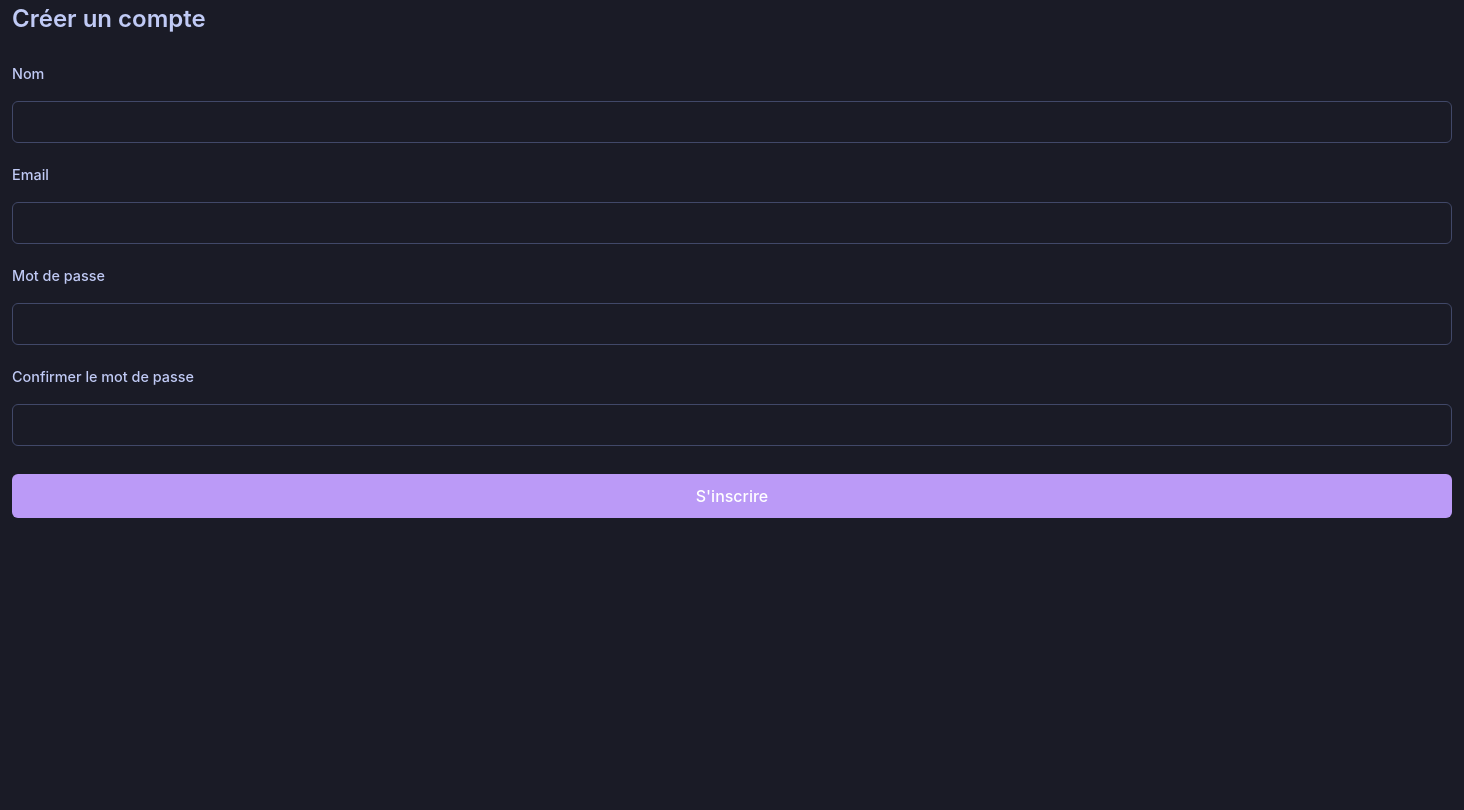
RegisterForm › devrait valider que l'email est requis
Type "John Doe" into the field named "nom" at [732, 122], box top-left (12, 101), bottom-right (1452, 143)
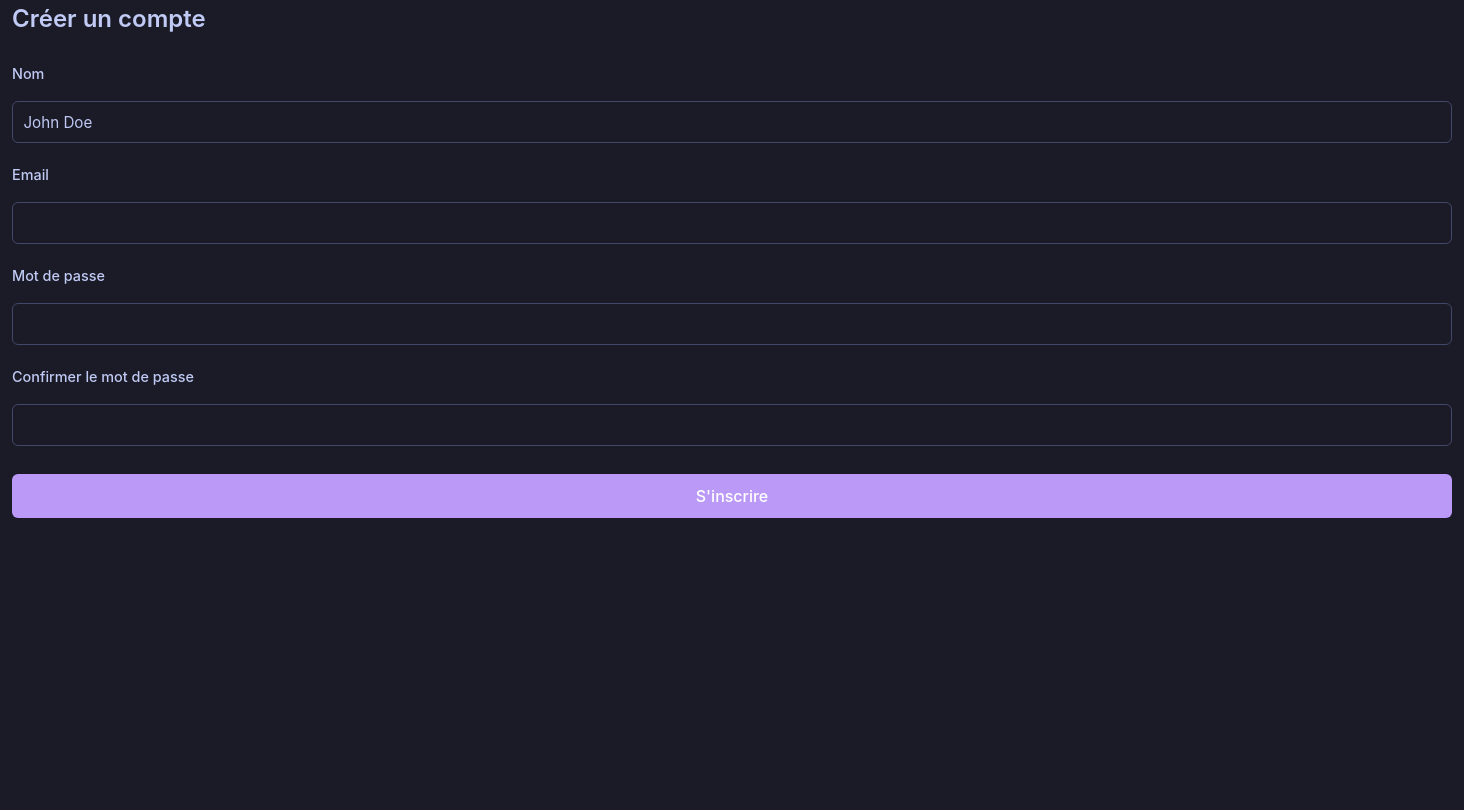
Submit the form
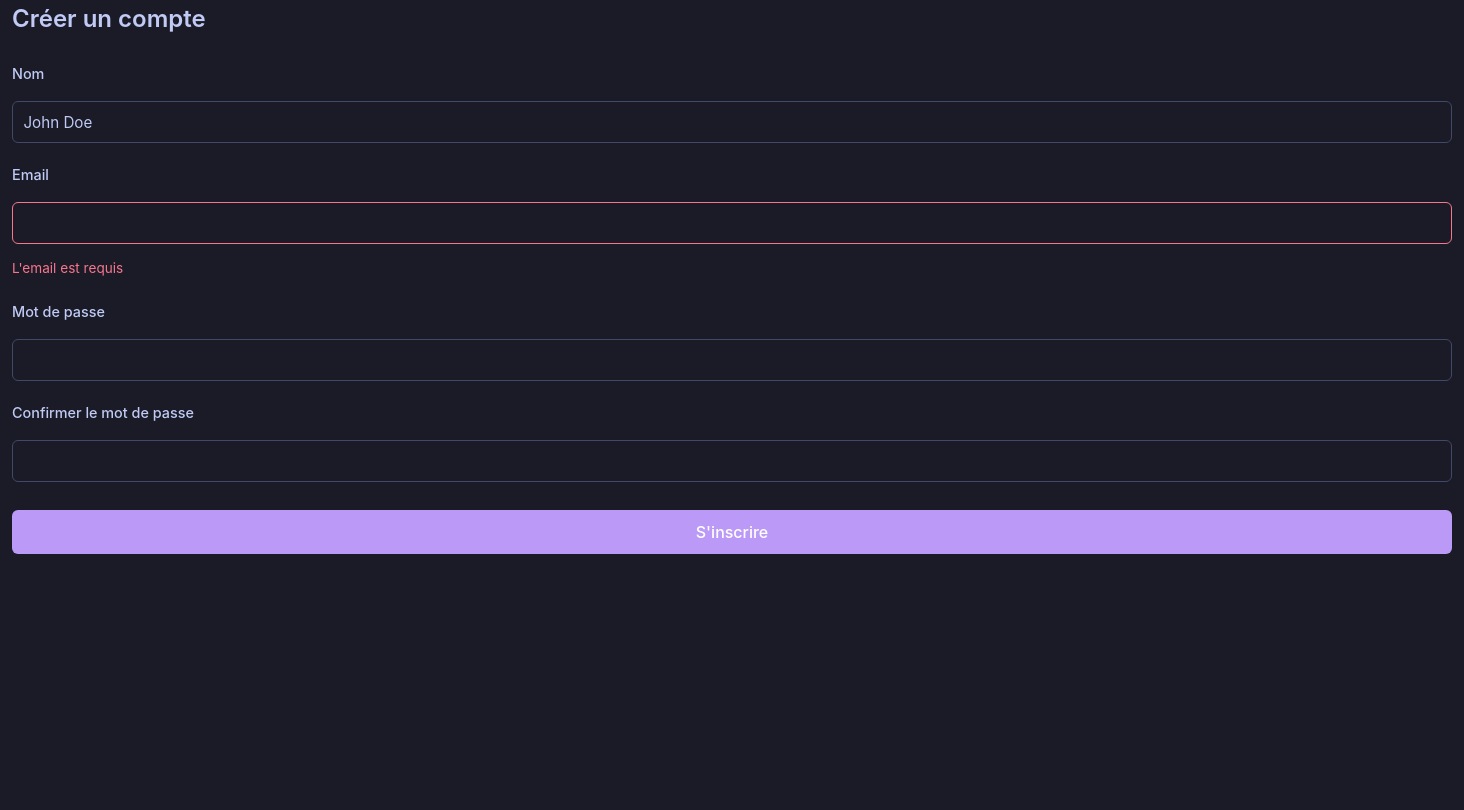
Check: the text with class "error-message" reads "L'email est requis", box top-left (12, 260), bottom-right (123, 276)
